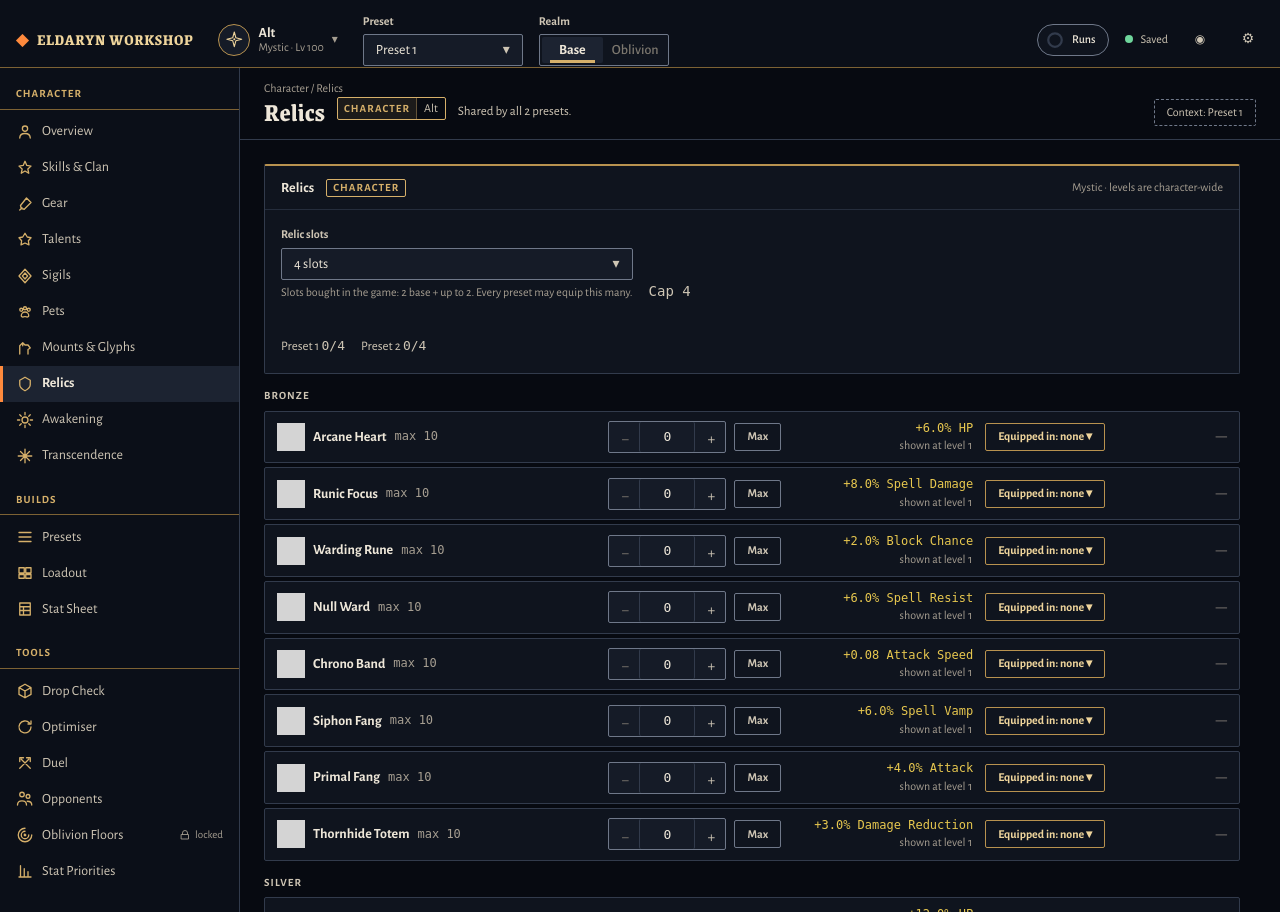
Test: switching characters raises a "Switched to" notification and keeps the page
What coordinates should you click on to do the following:
click the button with class "current" showing "Alt Mystic · Lv 100 ▾"
I would click on:
 (278, 40)
Its box is [209,20,347,58].
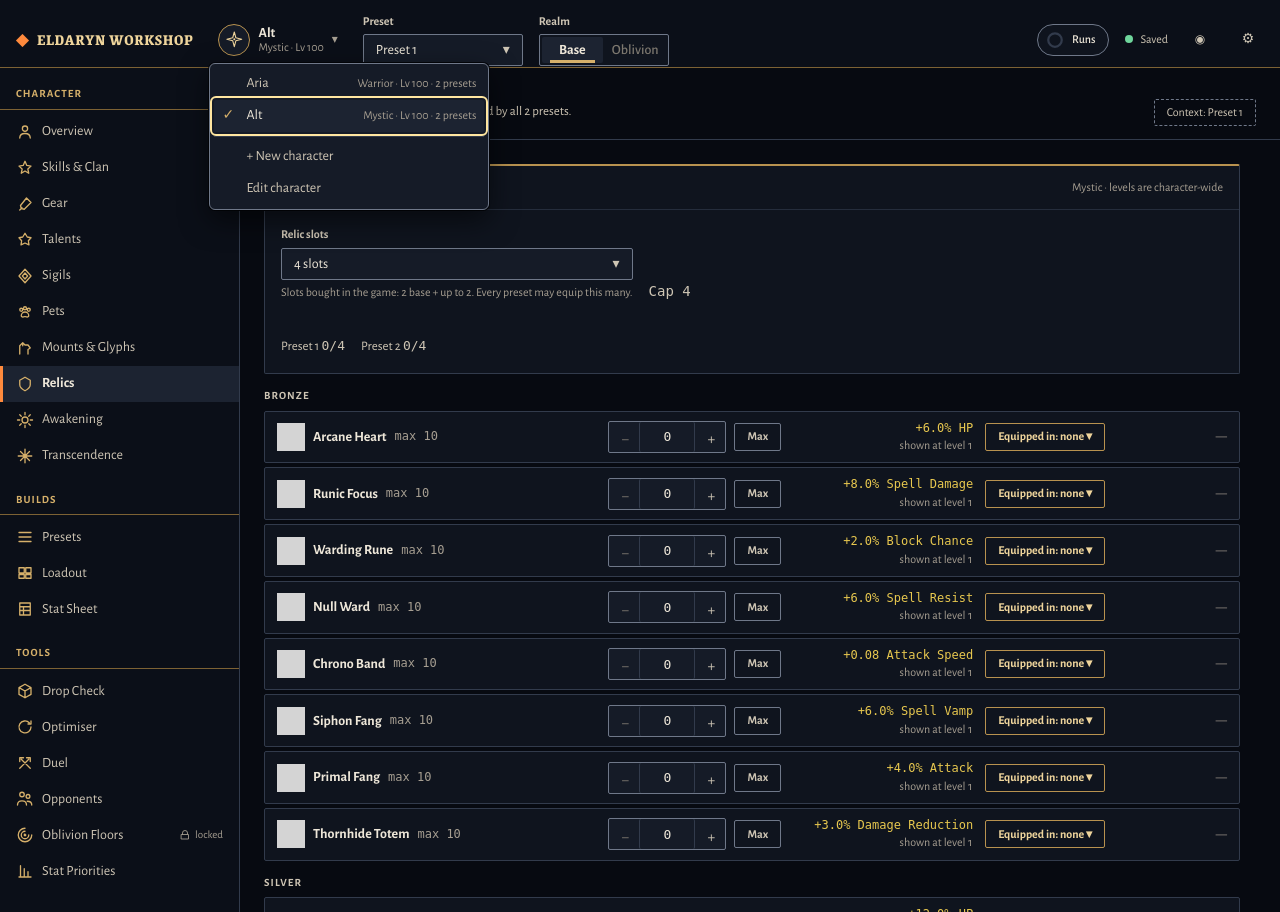
What coordinates should you click on to do the following:
click the menu item "Aria Warrior · Lv 100 · 2 presets"
I would click on:
 (417, 83)
Its box is [214,68,484,100].
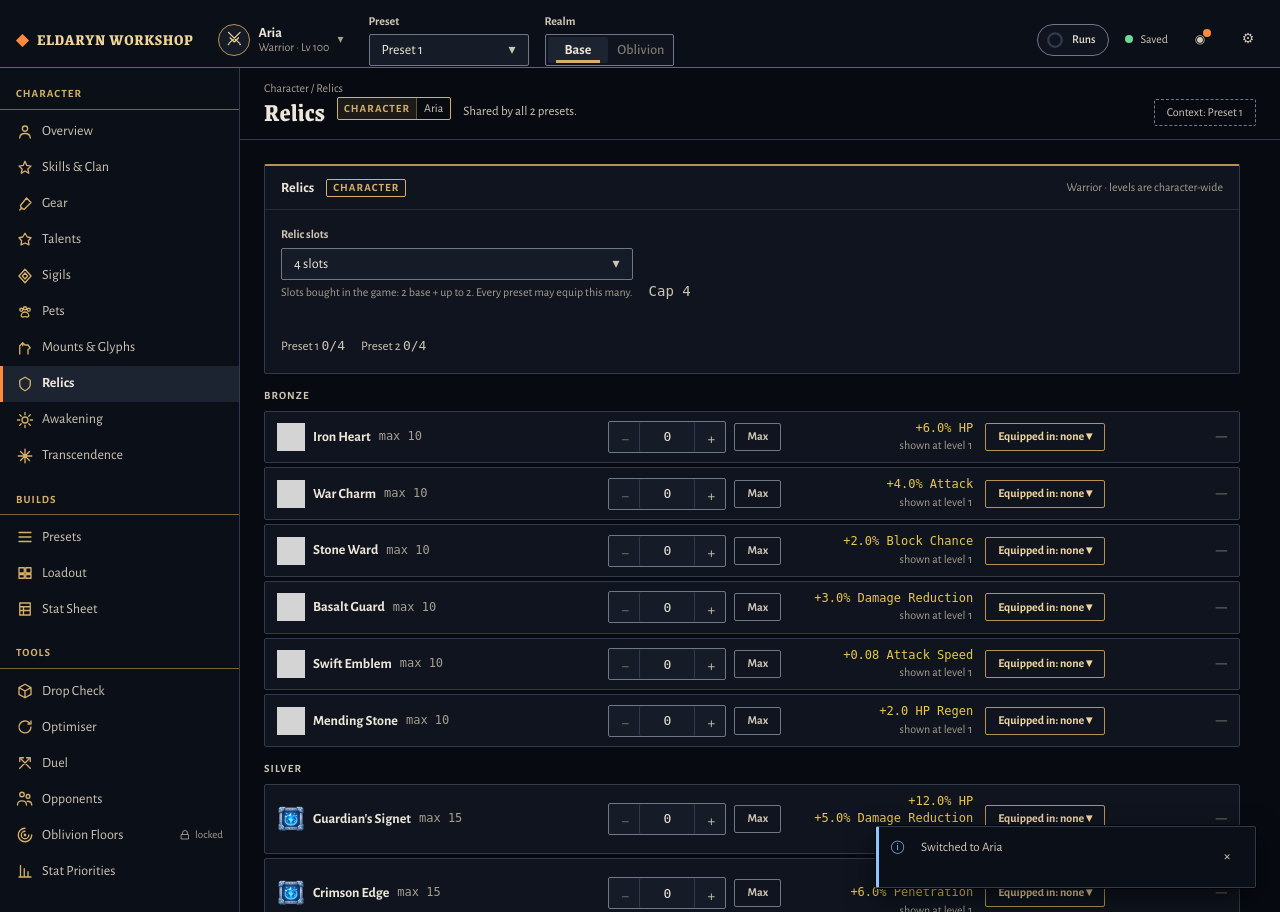
Expected: the heading "Relics" in the row of "Shared by all 2 presets." is shown, [264,92,325,131]
Result: the message named "Notifications" shows "Switched to Aria" at [921,841,1003,854]
Result: the button with class "current" shows "Warrior" at [209,20,352,58]
